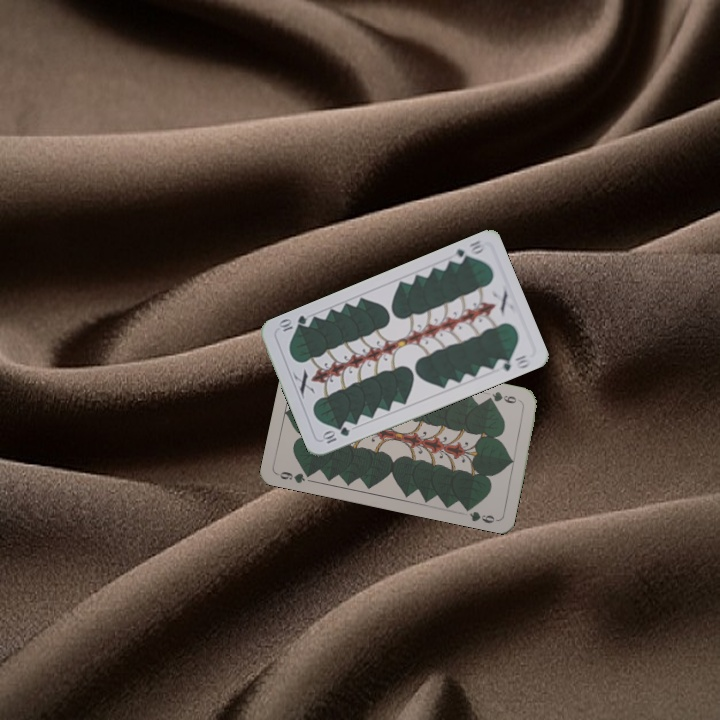G10: (447, 236, 487, 266), (318, 423, 352, 446)
G9: (482, 387, 524, 406), (274, 467, 316, 486)
